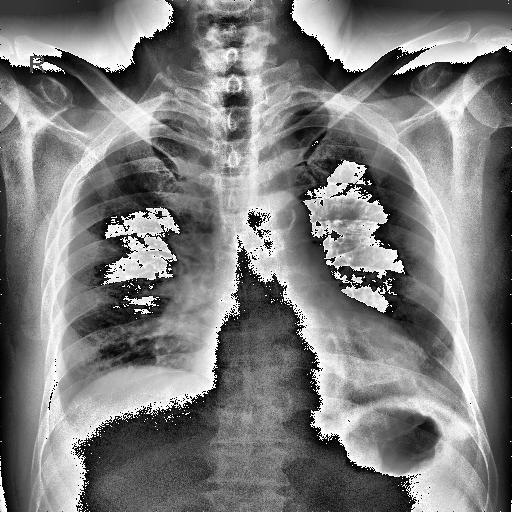0- Aortic enlargement: (242, 188, 307, 244), (250, 194, 310, 242)
11- Pleural thickening: (276, 101, 362, 117), (132, 110, 200, 126)
3- Cardiomegaly: (188, 334, 426, 426), (194, 318, 427, 400), (186, 344, 430, 393)
